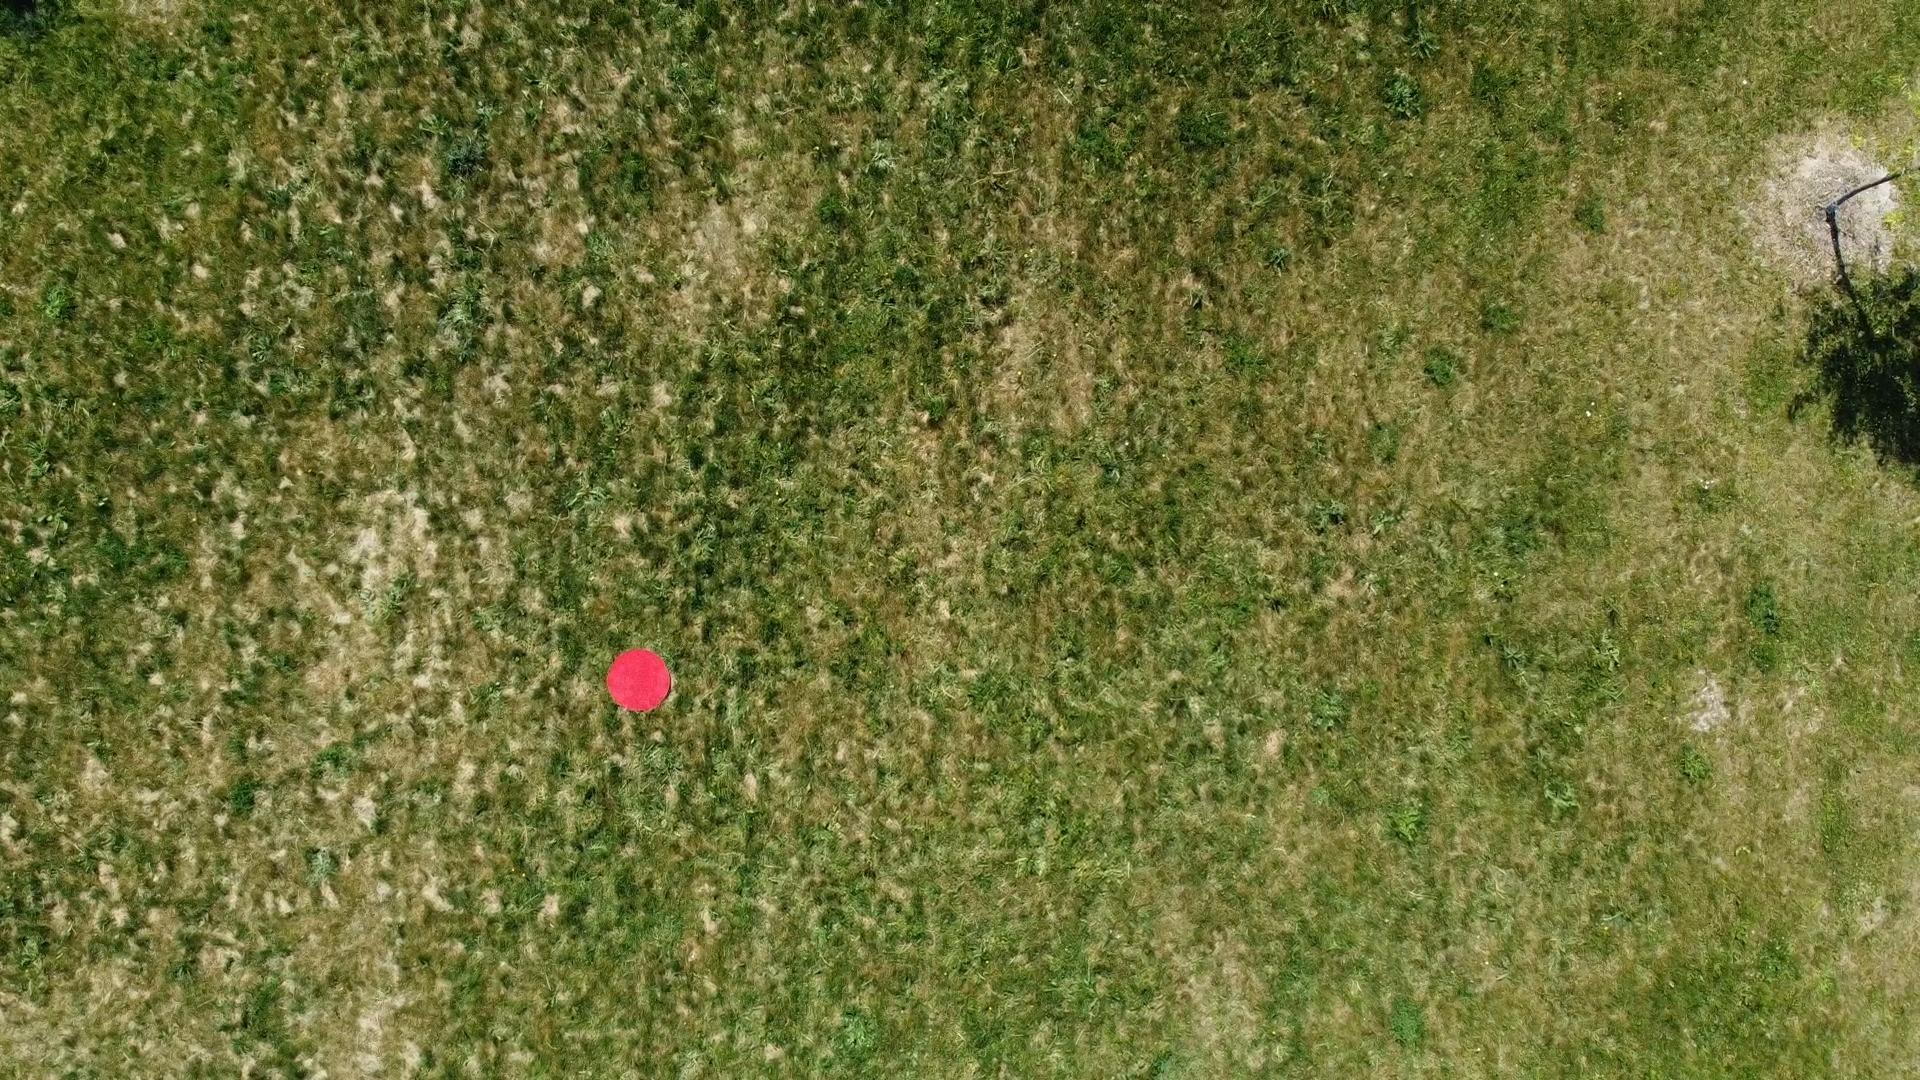Red: (604, 647, 674, 715)
